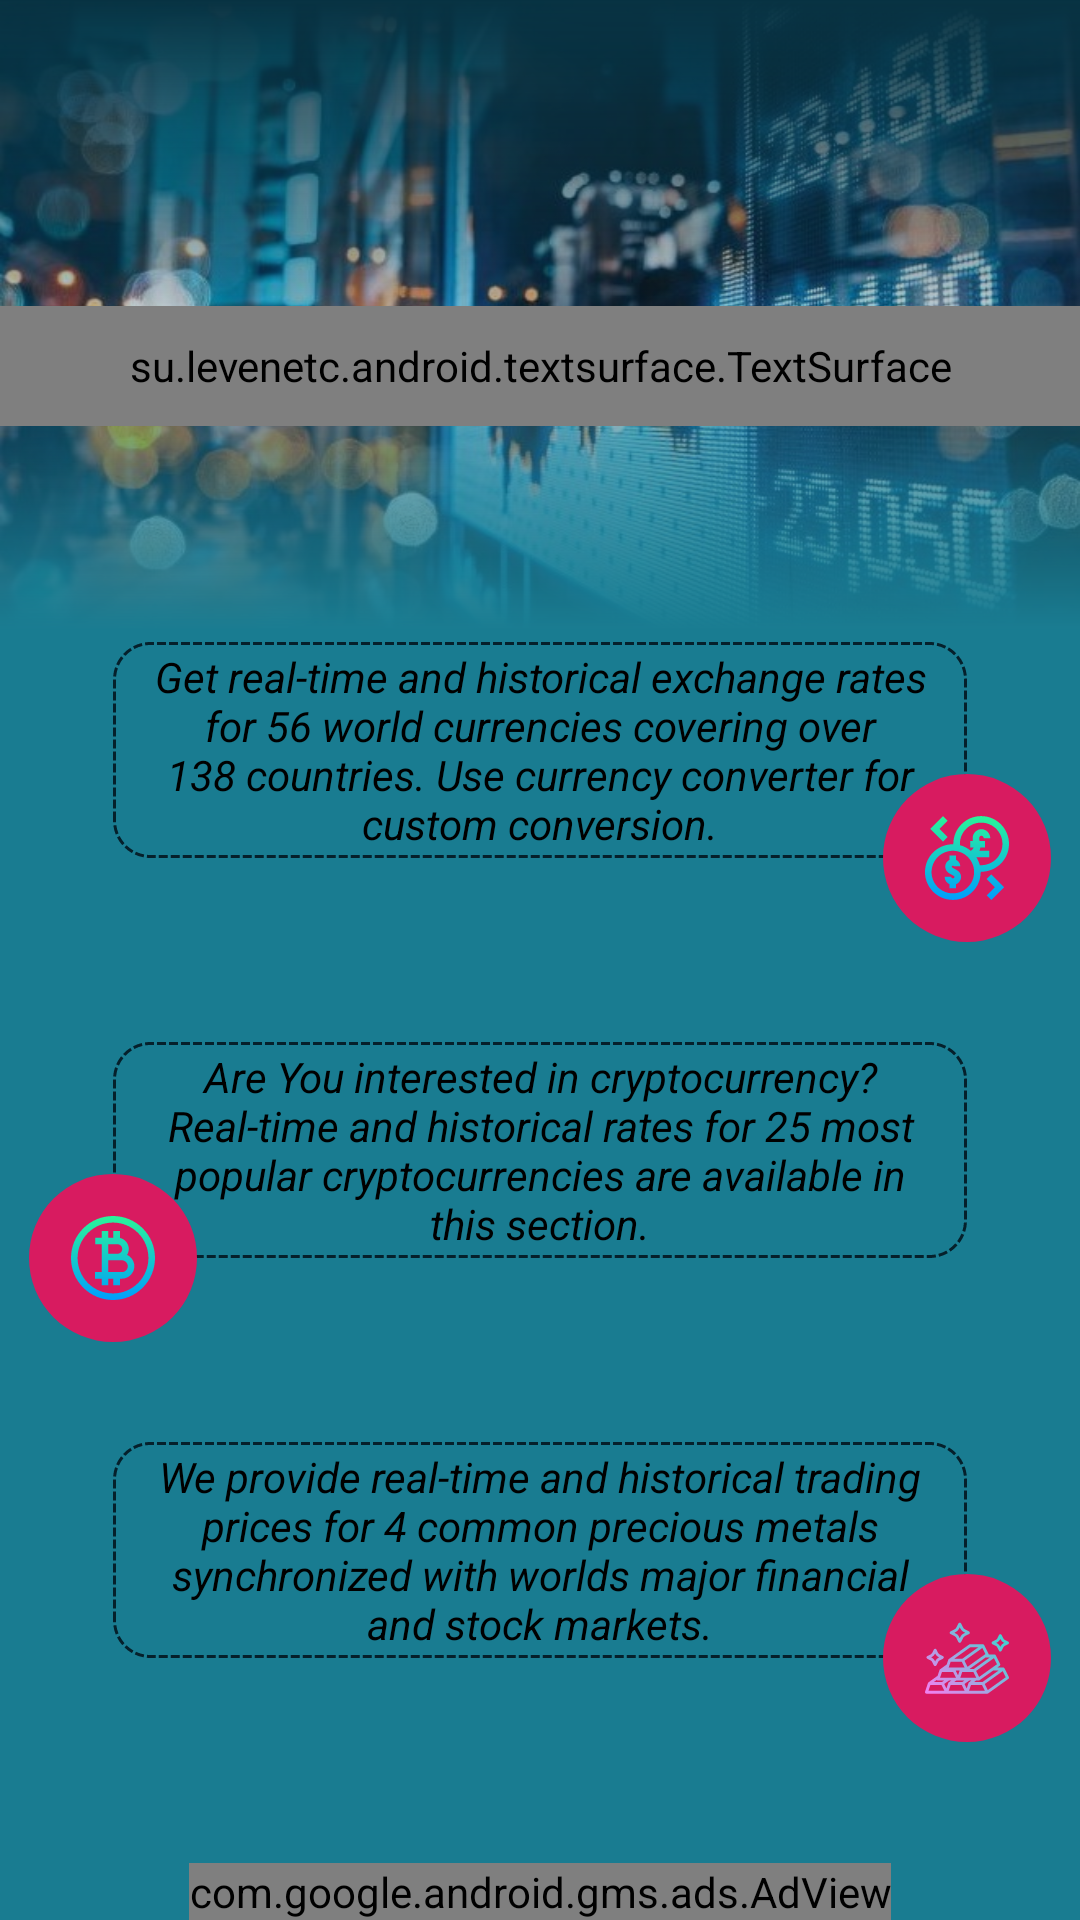

Icons on this 1080 × 1920 Android screen, each with the point to tap as point (x, y):
gold: point (967, 1658)
